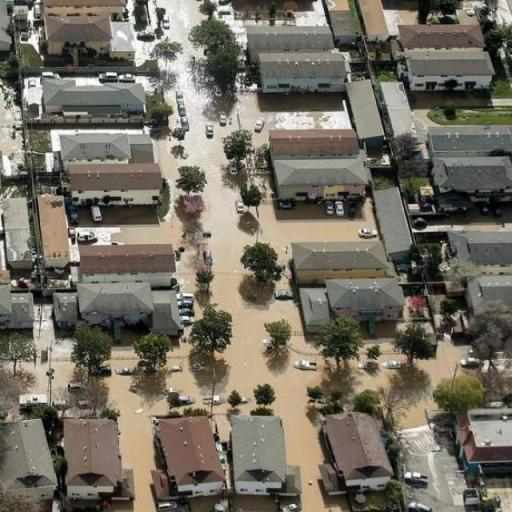flood: (111, 0, 377, 512), (103, 326, 212, 512), (398, 338, 472, 430), (30, 305, 87, 416), (352, 339, 408, 397), (0, 79, 25, 176)
house: (319, 411, 397, 498), (152, 414, 228, 502), (62, 413, 124, 512), (76, 226, 176, 282), (394, 46, 496, 96), (5, 414, 57, 507), (232, 413, 286, 498), (258, 47, 349, 97), (273, 152, 370, 198), (292, 237, 390, 282), (42, 77, 146, 118), (41, 3, 127, 51), (76, 275, 156, 325), (316, 276, 402, 322), (68, 164, 162, 205), (59, 132, 155, 166), (268, 124, 360, 158), (432, 156, 512, 194), (460, 408, 510, 466), (428, 121, 512, 155), (32, 194, 72, 265), (396, 21, 487, 49), (244, 26, 334, 54), (445, 229, 512, 266), (2, 198, 34, 272), (297, 285, 340, 336), (468, 274, 510, 320), (0, 285, 36, 331)
